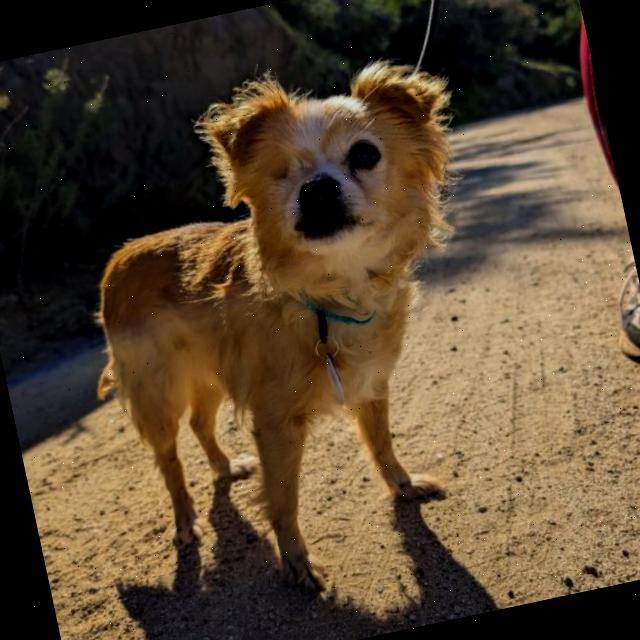pomeranian_dog: (174, 29, 498, 334)
